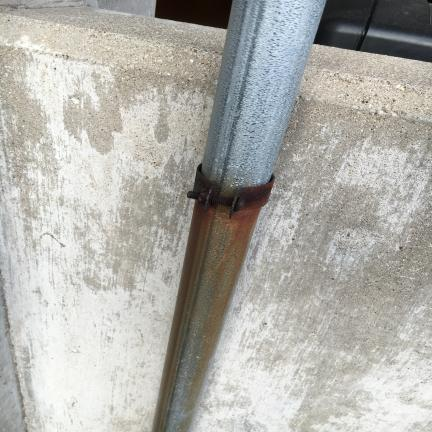karat: (153, 204, 260, 431)
